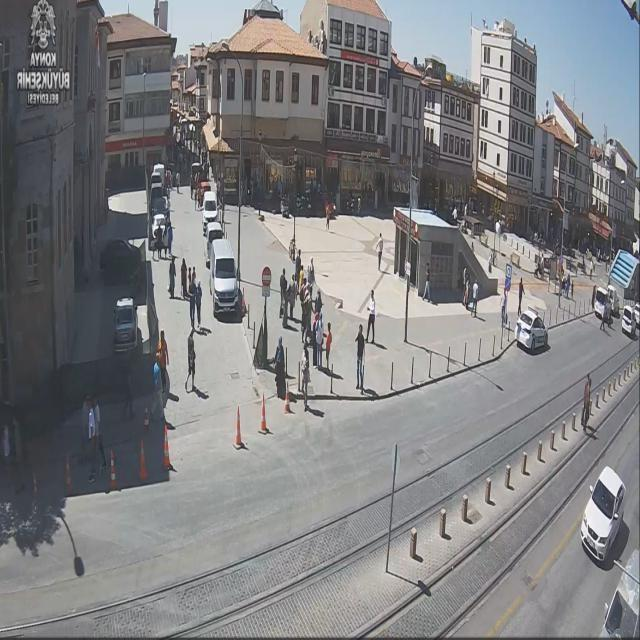Car: (560, 464, 640, 569), (210, 239, 240, 315), (112, 298, 138, 354), (516, 308, 548, 351), (594, 286, 617, 320), (202, 192, 219, 232), (622, 304, 640, 336)
